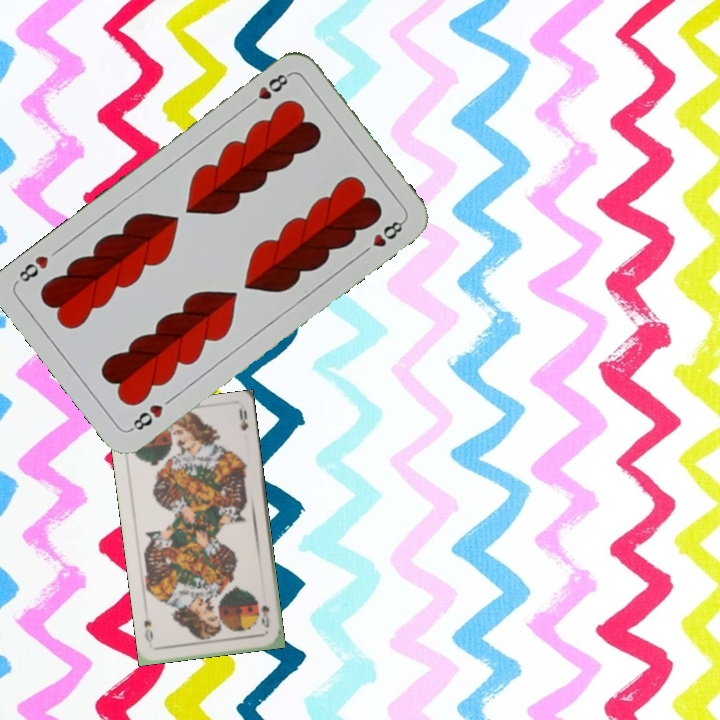H8: (243, 69, 293, 110), (126, 400, 166, 434)
SO: (256, 601, 272, 630)
